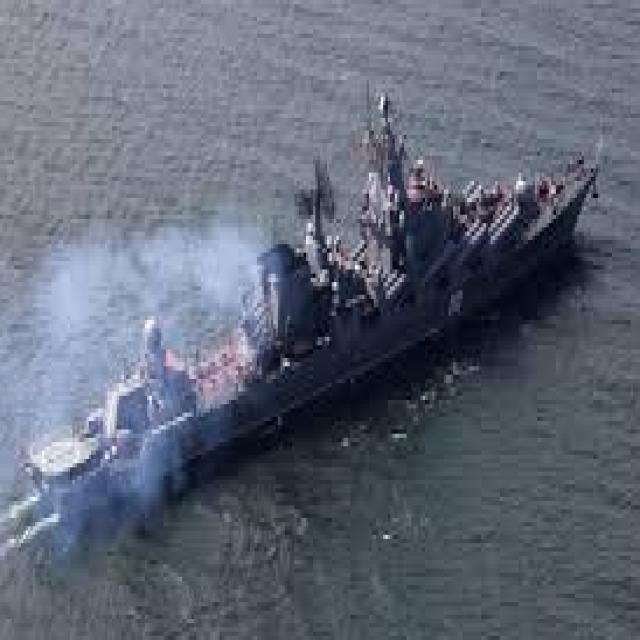navalvessels: (6, 101, 610, 540)
